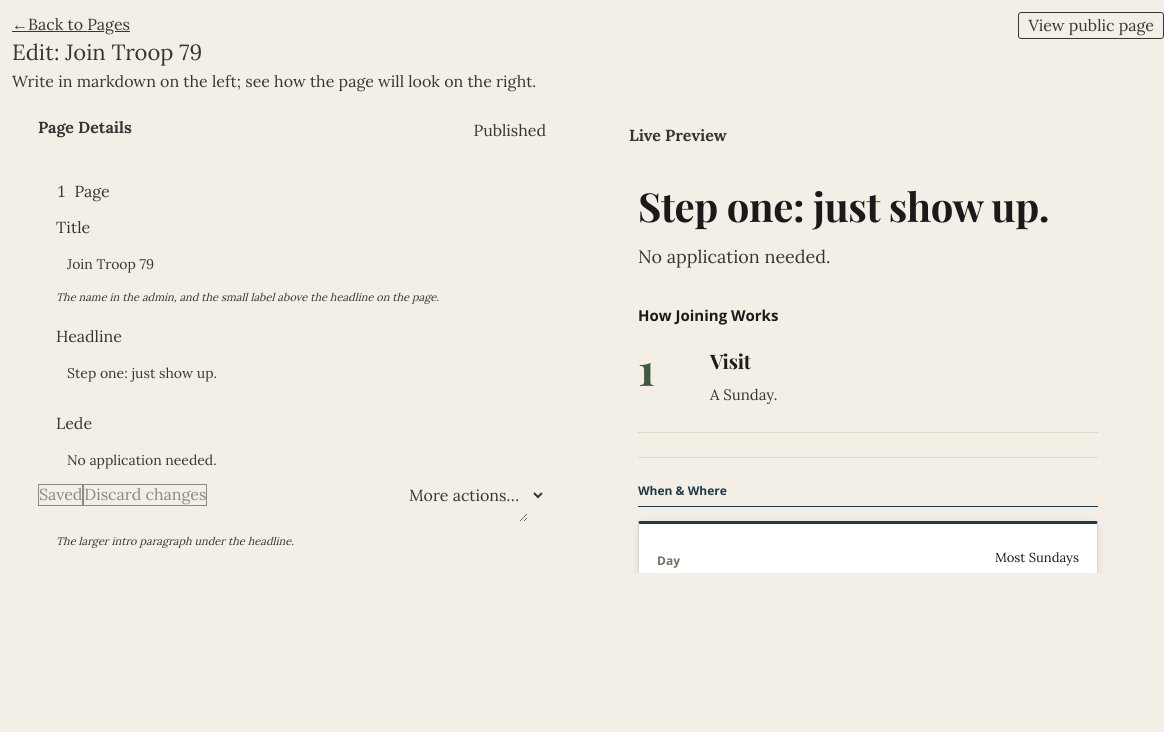
Test: PageEditor › PageEditor_SaveDisabledUntilDirty_DiscardRestoresLastSaved
Check: the button "Saved" is disabled, box [38, 484, 83, 506]
Check: the button "Discard changes" is disabled, box [83, 484, 207, 506]
Replace the text in the field labelled "Headline" with "Come on in." at [292, 373], box [56, 354, 528, 392]
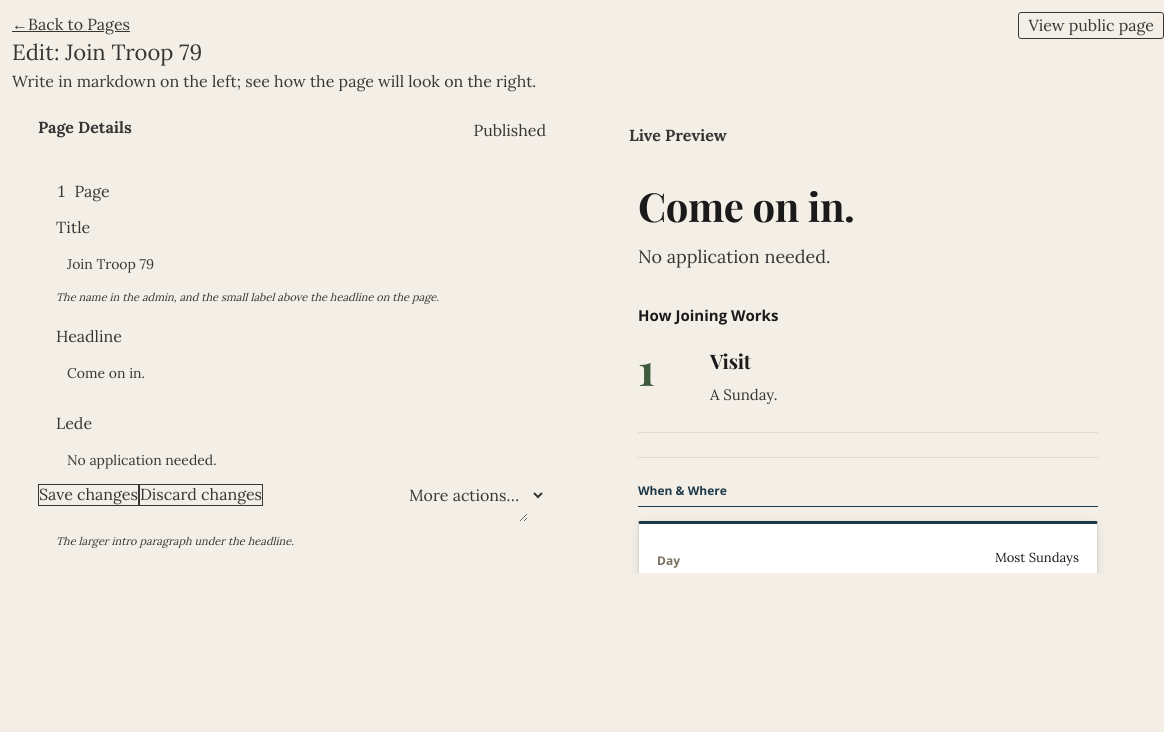
Check: the button "Save changes" is enabled, box [38, 484, 139, 506]
Check: the button "Discard changes" is enabled
Check: the text "Come on in." is shown, box [638, 179, 854, 232]
Click the button "Discard changes" at [201, 495], box [139, 484, 263, 506]
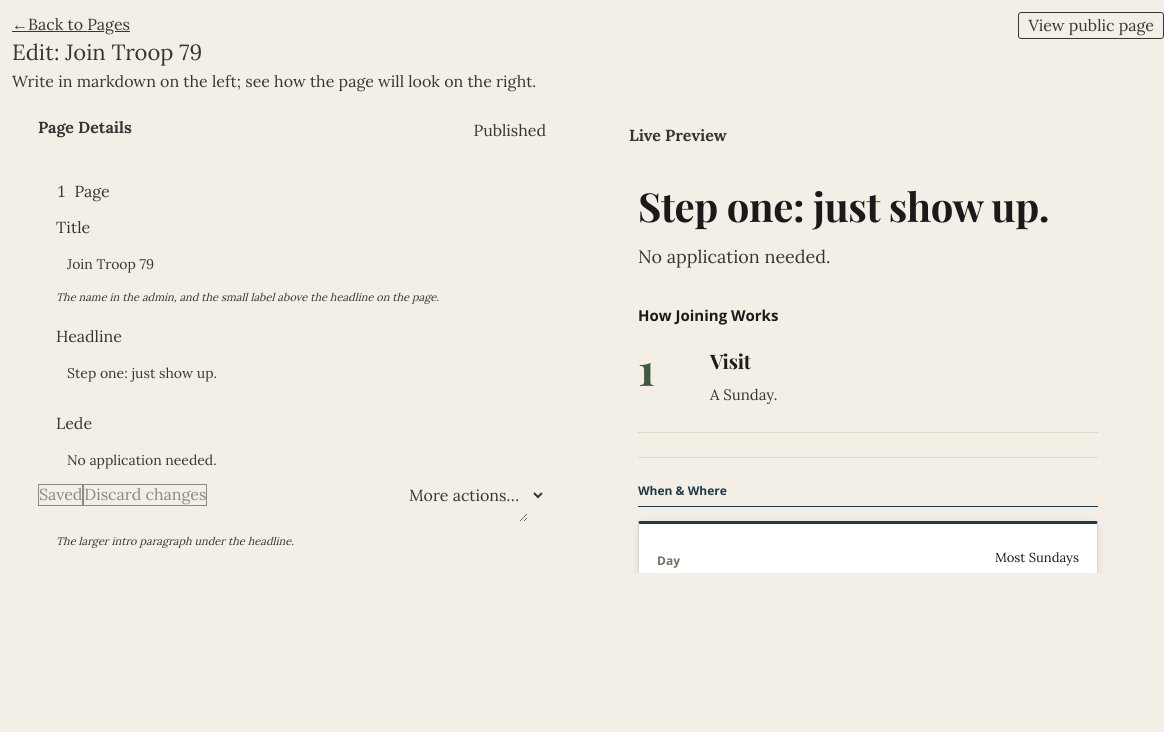
Check: the field labelled "Headline" holds "Step one: just show up.", box [56, 354, 528, 392]
Check: the button "Saved" is disabled, box [38, 484, 83, 506]
